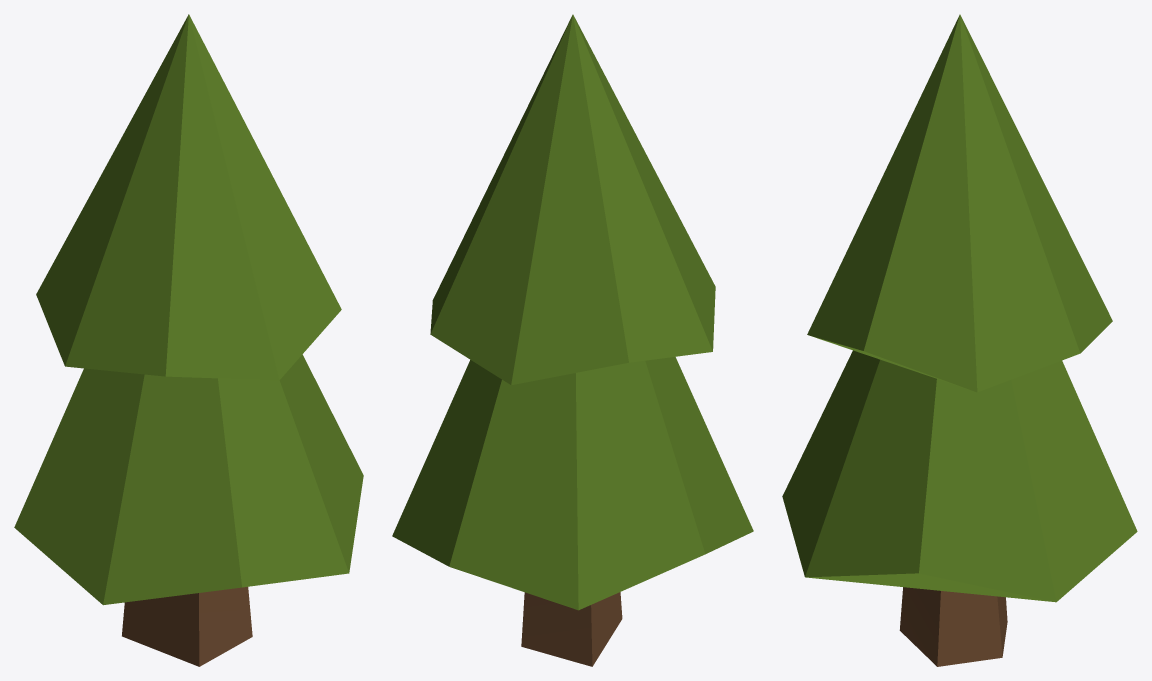
Rendered from Tree Small 2 Fractured.fbx.
3 views of the same model, side by side, from view 1: azimuth 30°, elevation 25°; view 2: azimuth 150°, elevation 25°; view 3: azimuth 270°, elevation 25° (orthographic).
Parts seen in each view (by area): view 1: Tree_Small_02_Breaking, Tree_Small_02_Breaking.001, Tree_Small_02_Breaking.002; view 2: Tree_Small_02_Breaking, Tree_Small_02_Breaking.001, Tree_Small_02_Breaking.002; view 3: Tree_Small_02_Breaking, Tree_Small_02_Breaking.001, Tree_Small_02_Breaking.002.
Part boxes in pixels (bbox=[...]): Tree_Small_02_Breaking: bbox=[14, 354, 363, 605]; Tree_Small_02_Breaking.001: bbox=[36, 14, 341, 380]; Tree_Small_02_Breaking.002: bbox=[122, 587, 252, 666]; Tree_Small_02_Breaking: bbox=[392, 356, 753, 610]; Tree_Small_02_Breaking.001: bbox=[430, 14, 715, 385]; Tree_Small_02_Breaking.002: bbox=[521, 592, 622, 666]; Tree_Small_02_Breaking: bbox=[782, 350, 1137, 602]; Tree_Small_02_Breaking.001: bbox=[807, 14, 1112, 392]; Tree_Small_02_Breaking.002: bbox=[899, 587, 1007, 666].
Bounding box in the file's own units: 103 × 201 × 103.
